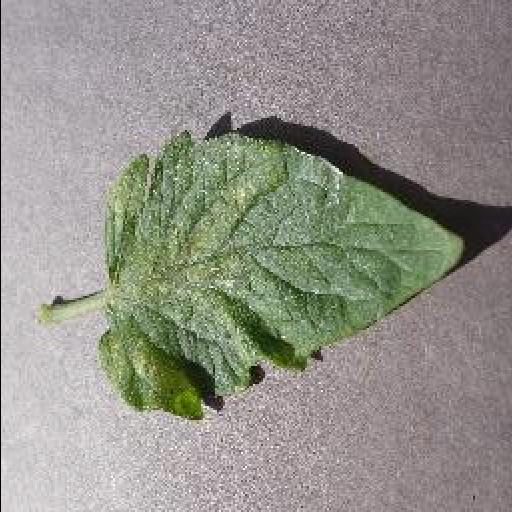disease_tomato: (96, 130, 466, 420)
